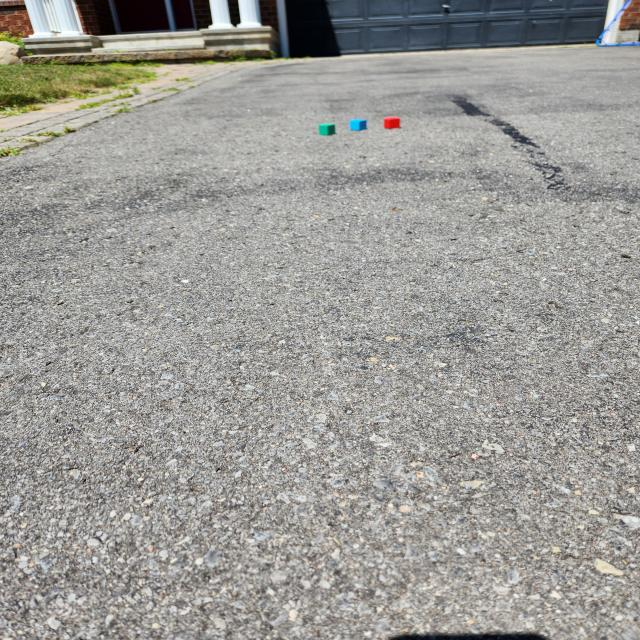bluecube: (350, 118, 367, 131)
green cube: (318, 122, 336, 136)
red cube: (384, 116, 400, 128)
